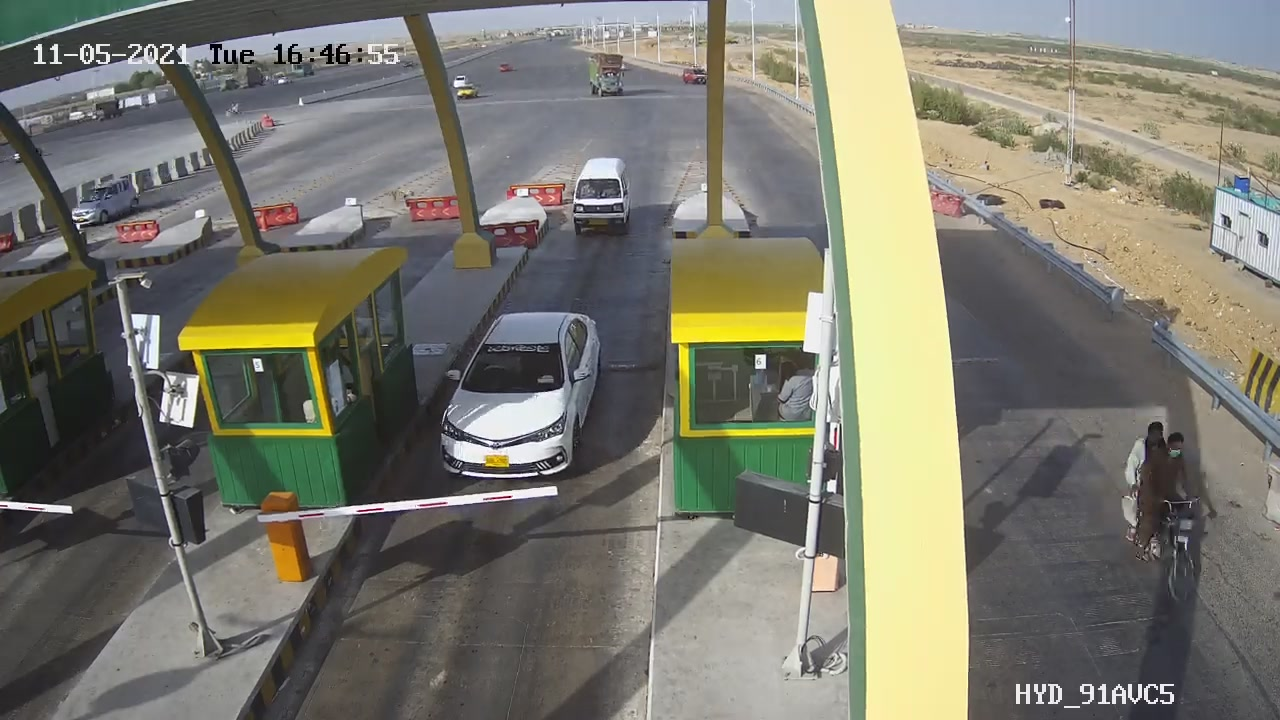F1: (418, 293, 617, 506), (553, 145, 642, 247)
